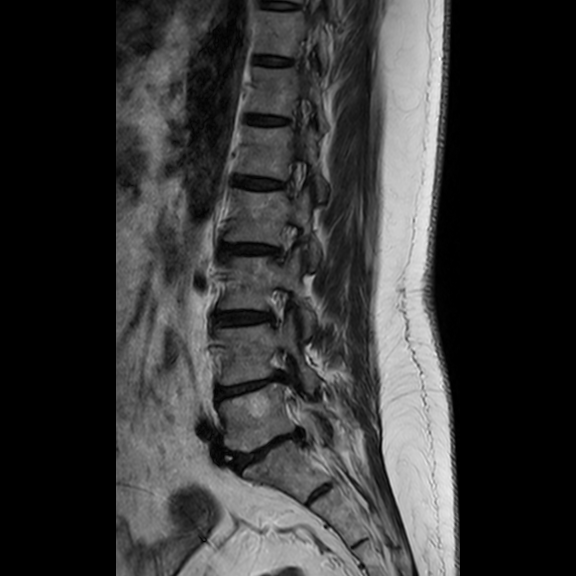LFS0: (270, 146, 314, 211), (264, 213, 303, 275), (256, 278, 296, 334)
